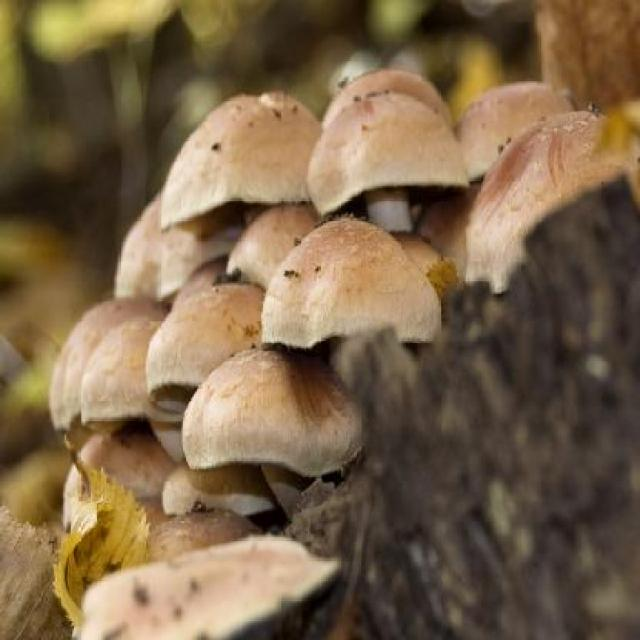Mushroom: (47, 68, 639, 640), (160, 333, 372, 521)
